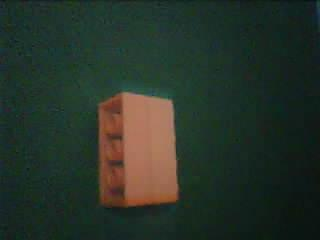lego: (96, 90, 180, 209)
